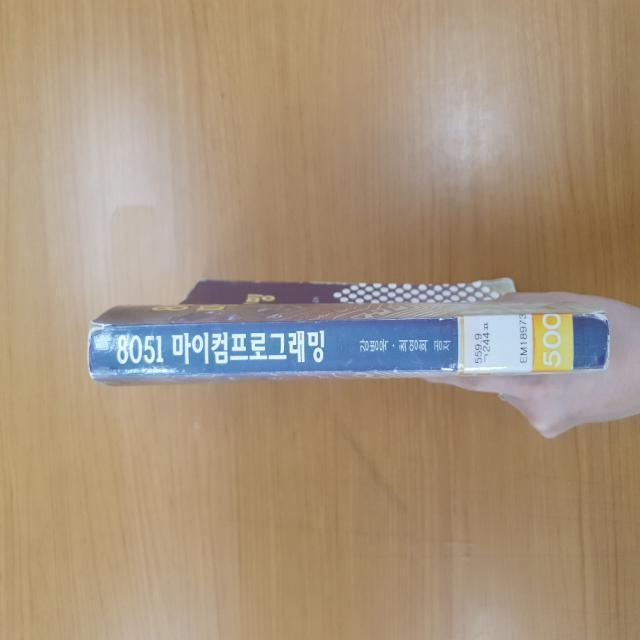Ripped: (577, 308, 611, 327), (87, 317, 118, 336)
Wornout: (84, 335, 95, 384), (602, 329, 611, 375), (388, 366, 407, 375), (435, 314, 447, 323)
